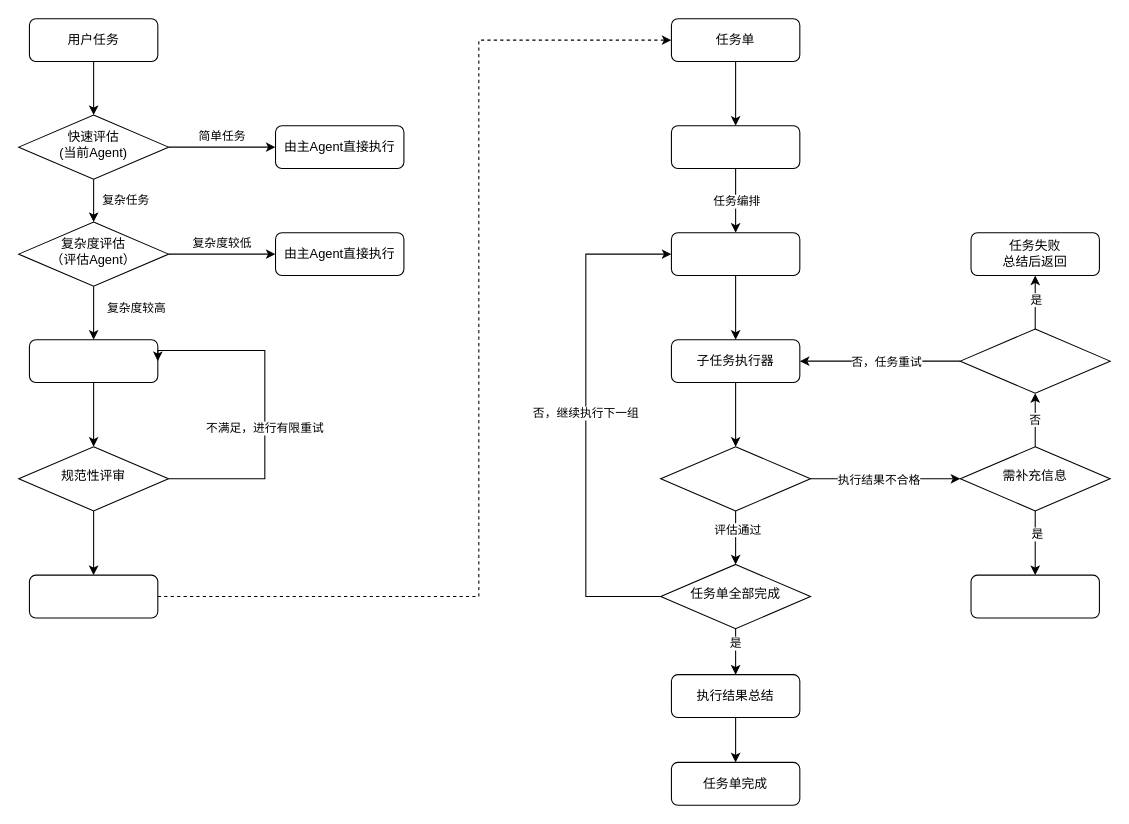
Some shapes in this 1129 by 824 pixel diagram are drawn without their labels. The centre of each missing label's shape, as x and y in pixels:
任务单创建完成: the point at 93,596
任务规划 （规划Agent）: the point at 93,361
任务调度器: the point at 735,147
取出下一组任务: the point at 735,254
结果评估 （调度Agent）: the point at 735,478
要求用户补充信息: the point at 1034,596
达到重试次数: the point at 1034,360
